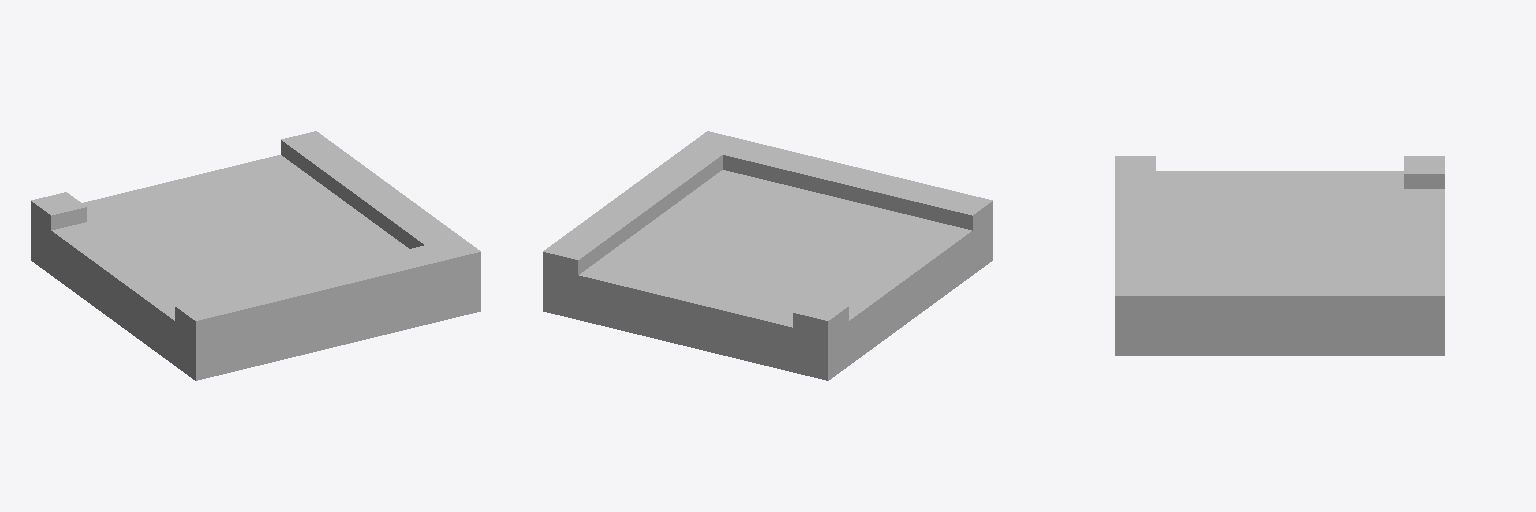
Rendered from CornerLU.obj.
3 views of the same model, side by side, from view 1: azimuth 30°, elevation 25°; view 2: azimuth 150°, elevation 25°; view 3: azimuth 270°, elevation 25° (orthographic).
Parts seen in each view (by area): view 1: CornerLU; view 2: CornerLU; view 3: CornerLU.
Part boxes in pixels (x1,y1,x2,y2): CornerLU: (31,131,480,380); CornerLU: (543,131,992,380); CornerLU: (1115,156,1444,355).
Bounding box in the file's own units: 1 × 0.2 × 1.